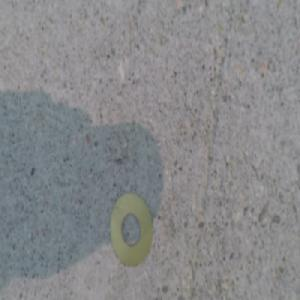Washer: (110, 188, 155, 264)
